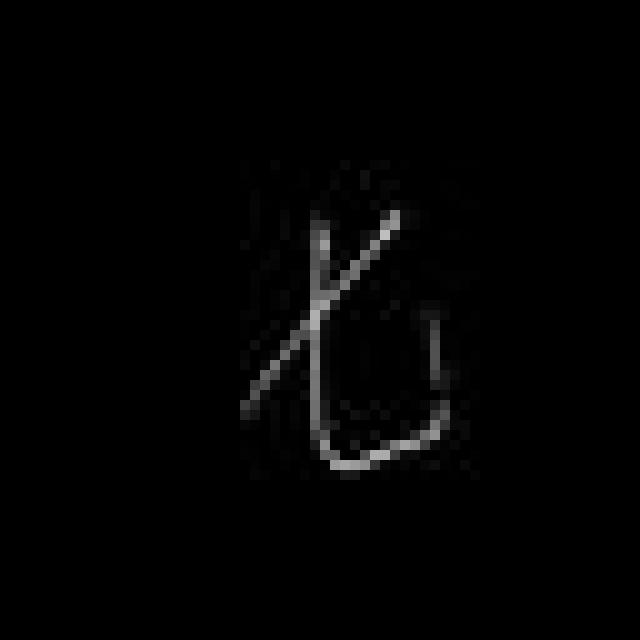7 -seven-: (235, 208, 458, 477)
